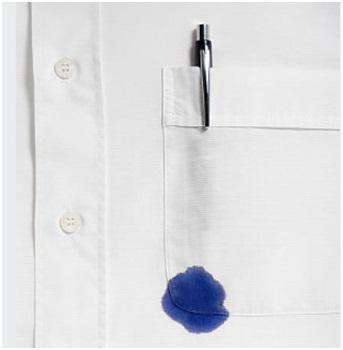gun: (157, 266, 236, 332)
